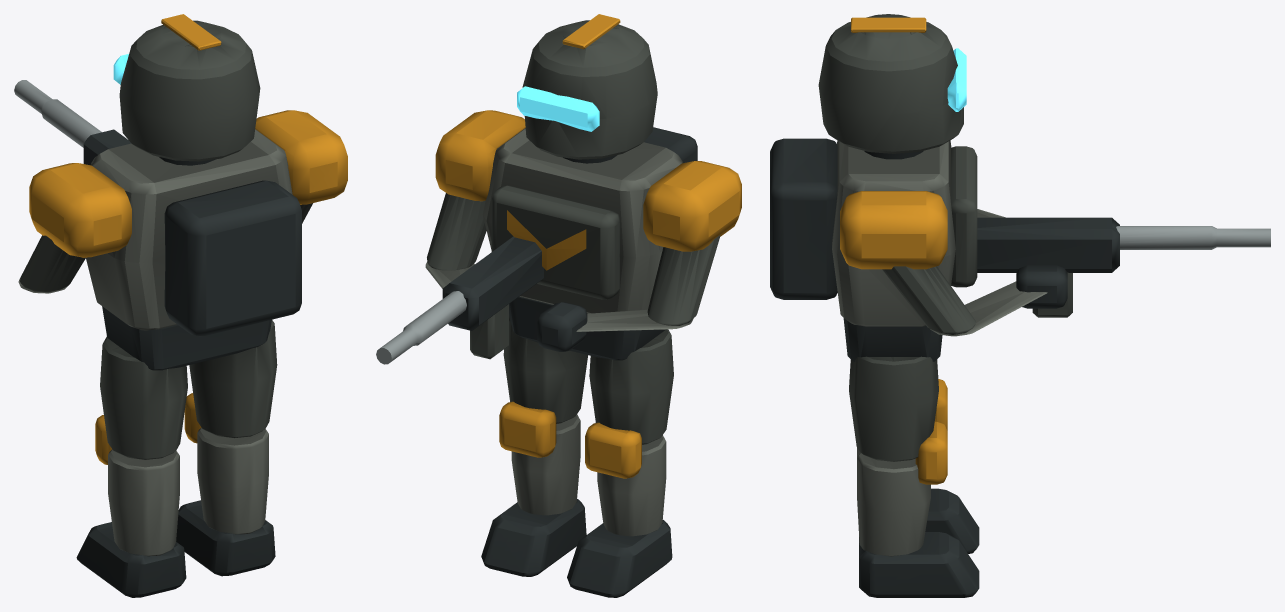
File: Infantry.glb
3 views of the same model, side by side, from view 1: azimuth 30°, elevation 25°; view 2: azimuth 150°, elevation 25°; view 3: azimuth 270°, elevation 25° (orthographic). The views are drawn at different scales.
Parts seen in each view (by area): view 1: export_Infantry_Pelvis, export_Infantry_Thigh, export_Infantry_Thigh.001; view 2: export_Infantry_Pelvis, export_Infantry_Thigh, export_Infantry_Thigh.001; view 3: export_Infantry_Pelvis, export_Infantry_Thigh.001, export_Infantry_Thigh.
Part boxes in pixels (left/top/right/bottom): export_Infantry_Pelvis: left=14, top=14, right=347, bottom=370; export_Infantry_Thigh: left=76, top=336, right=187, bottom=597; export_Infantry_Thigh.001: left=176, top=320, right=277, bottom=576; export_Infantry_Pelvis: left=376, top=14, right=741, bottom=364; export_Infantry_Thigh: left=567, top=329, right=673, bottom=597; export_Infantry_Thigh.001: left=481, top=314, right=587, bottom=576; export_Infantry_Pelvis: left=770, top=14, right=1270, bottom=361; export_Infantry_Thigh.001: left=849, top=356, right=979, bottom=597; export_Infantry_Thigh: left=857, top=379, right=979, bottom=553.
Bounding box in the file's own units: 1.2 × 2.21 × 1.86.
